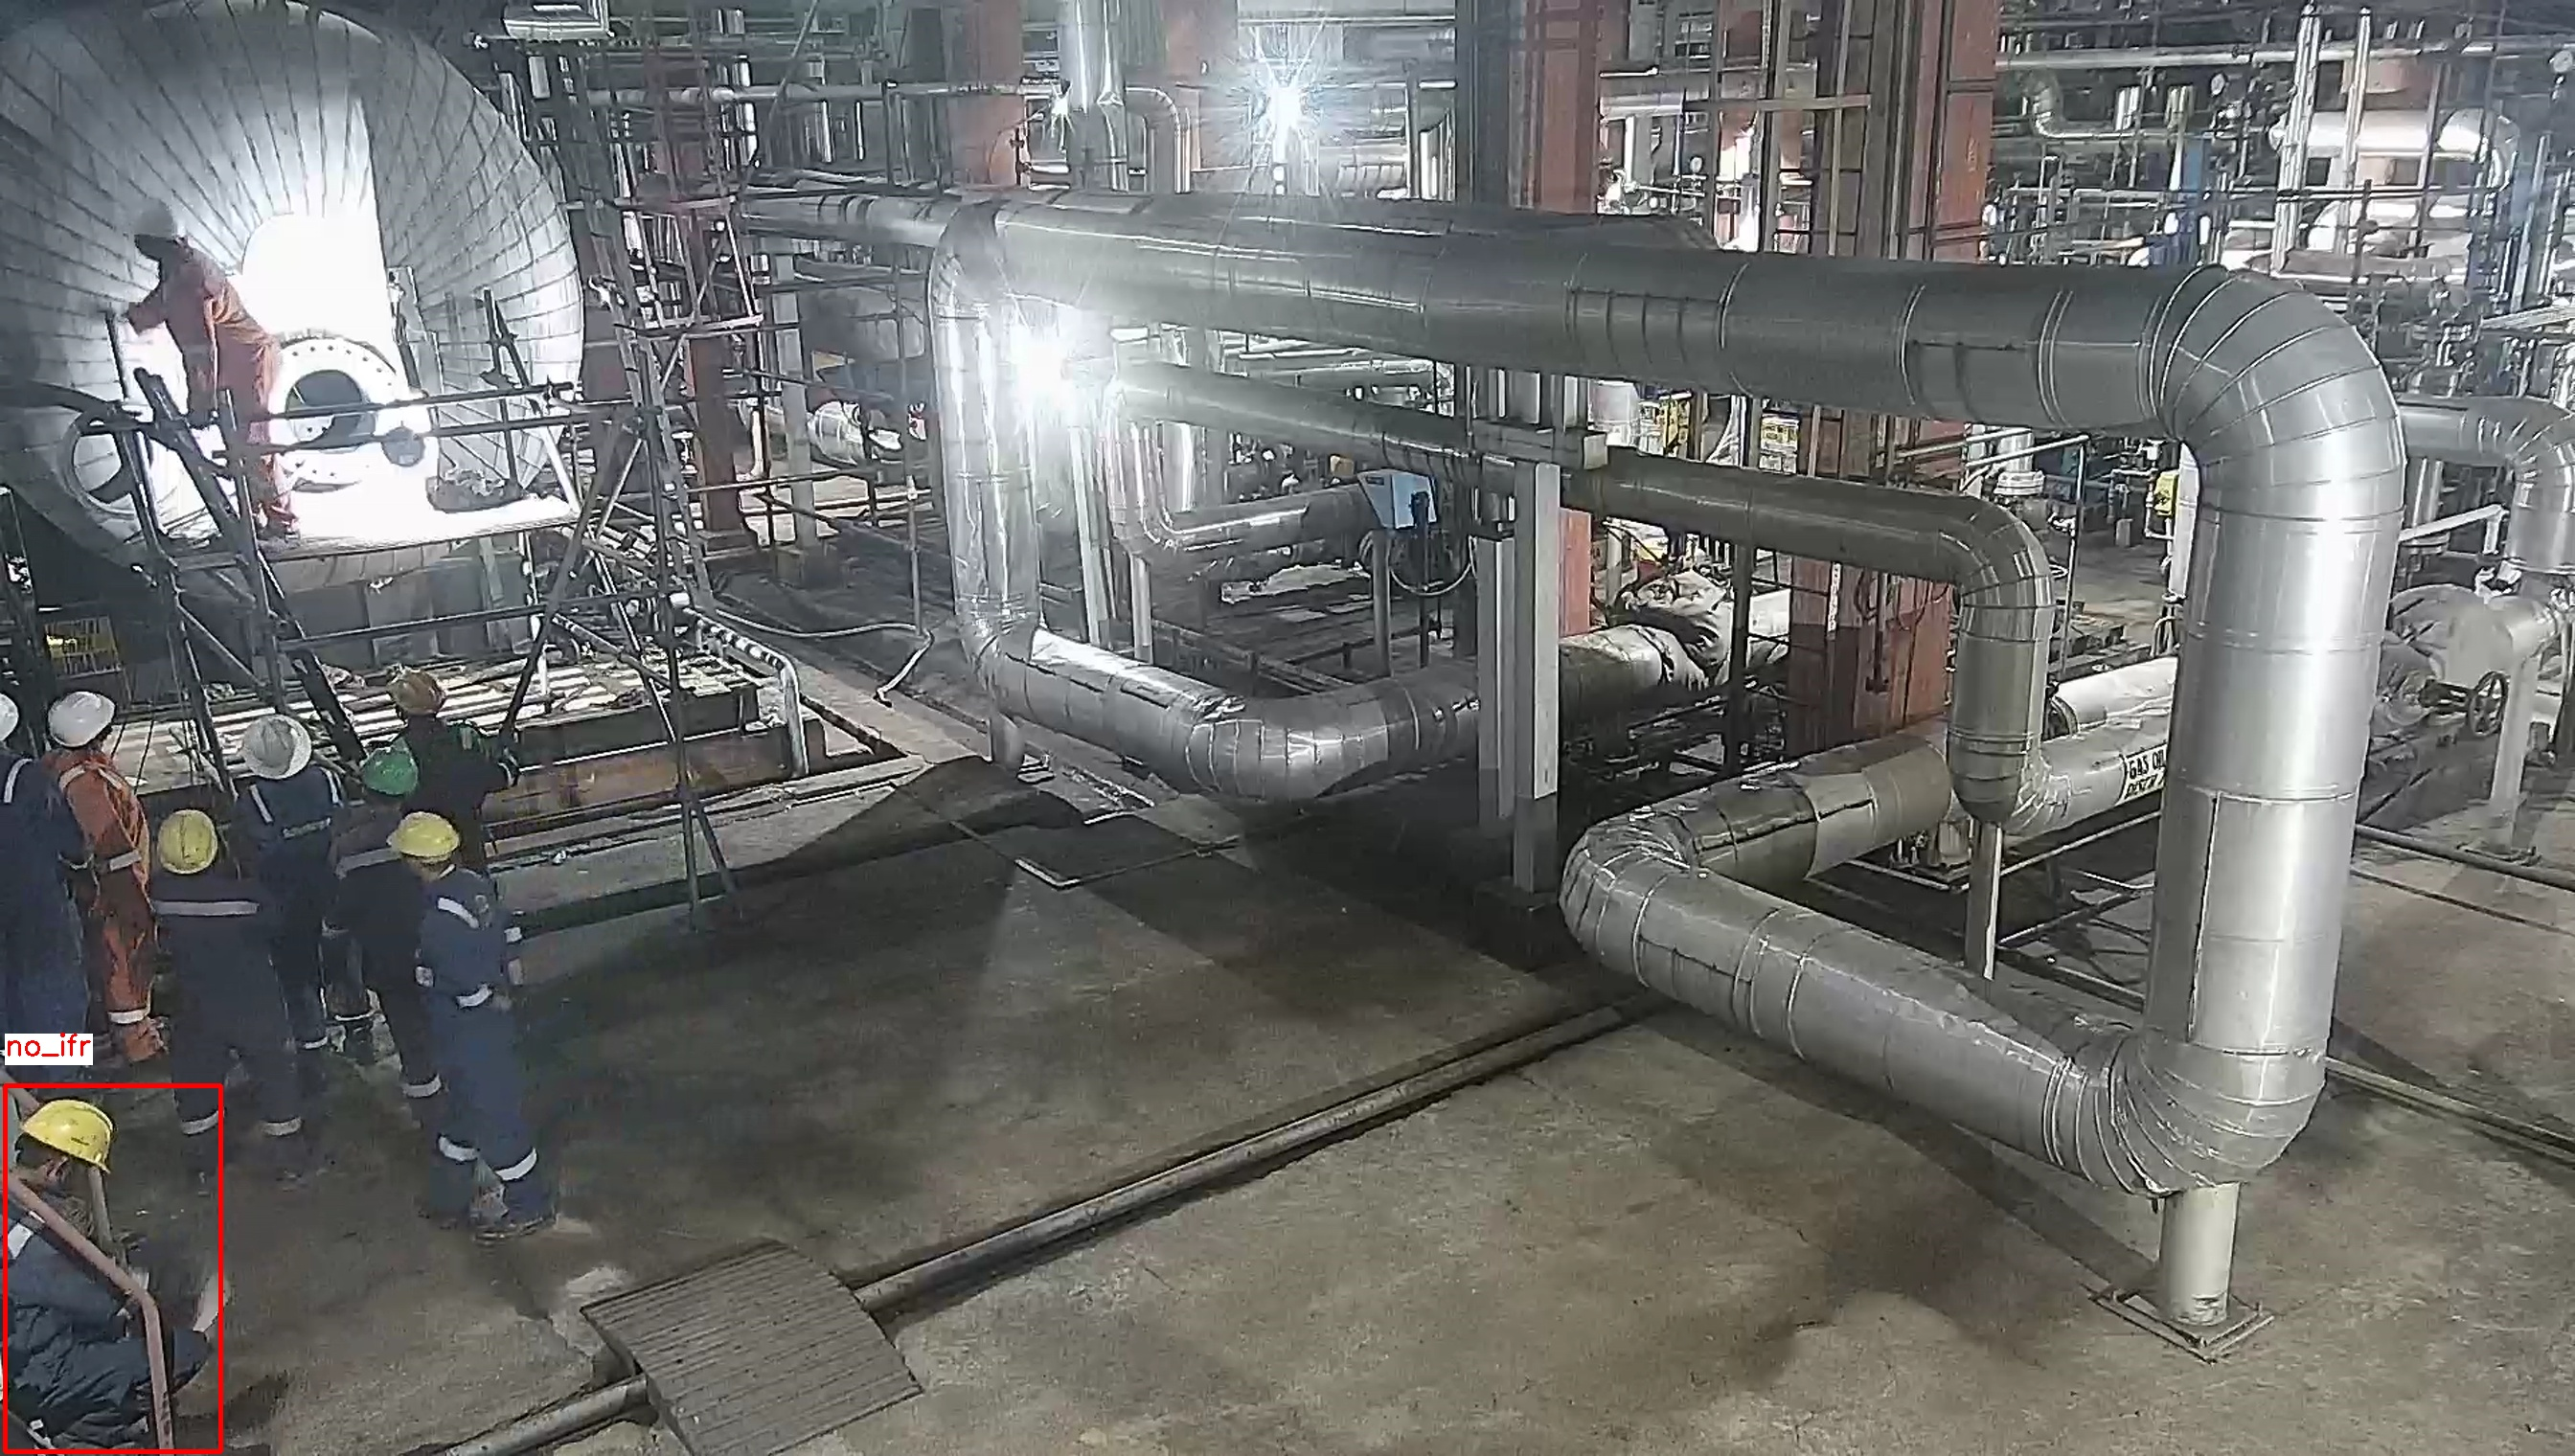Helmets: (19, 1093, 118, 1184), (228, 718, 317, 784), (150, 801, 223, 877), (41, 686, 118, 757), (373, 807, 469, 860), (384, 663, 447, 720)
IFR_Suit: (149, 881, 324, 1173), (412, 872, 545, 1198), (37, 748, 157, 1060)
